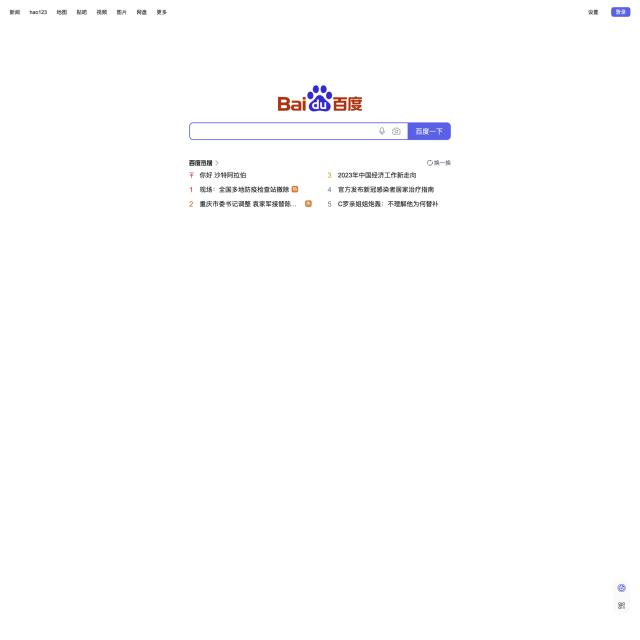input: (188, 122, 408, 142)
logo: (271, 79, 368, 116)
navigation: (3, 4, 171, 20)
